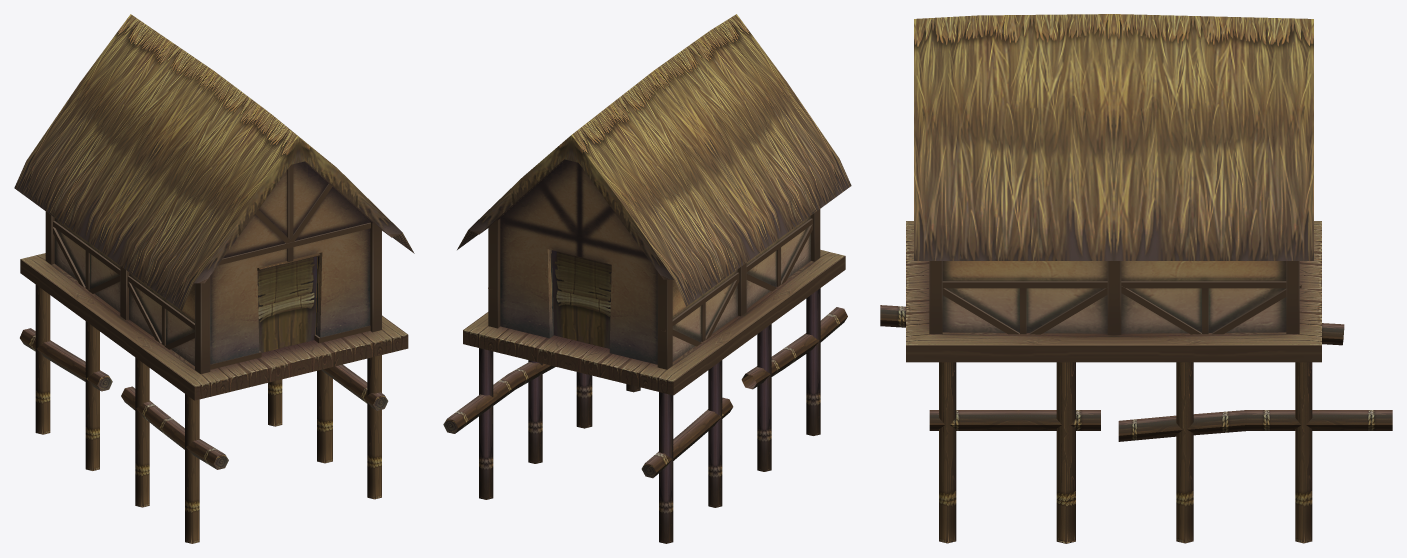
File: scenes_beach_house01.FBX
3 renders of one model, left to right at view 1: azimuth 30°, elevation 25°; view 2: azimuth 150°, elevation 25°; view 3: azimuth 270°, elevation 25°, orthographic. The views are drawn at different scales.
Parts seen in each view (by area): view 1: scenes_beach_house01; view 2: scenes_beach_house01; view 3: scenes_beach_house01.
Boxes of the visible parts, <box> form: scenes_beach_house01: <box>14,14,414,543</box>; scenes_beach_house01: <box>443,14,851,543</box>; scenes_beach_house01: <box>880,14,1392,543</box>.
Bounding box in the file's own units: 500 × 811 × 797.
